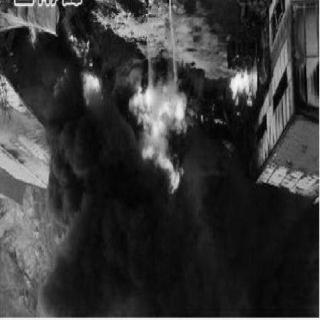Fire: (22, 23, 52, 55)
